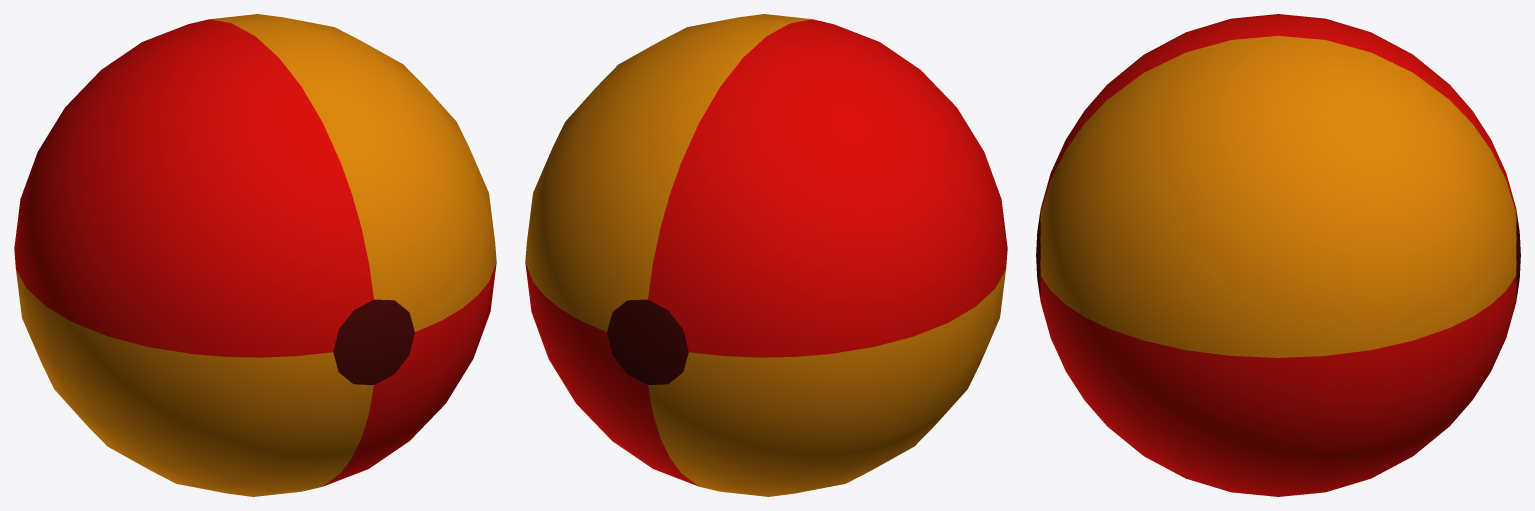
Rendered from Fbx_Bouncer.fbx.
3 views of the same model, side by side, from view 1: azimuth 30°, elevation 25°; view 2: azimuth 150°, elevation 25°; view 3: azimuth 270°, elevation 25° (orthographic).
Parts seen in each view (by area): view 1: Sphere; view 2: Sphere; view 3: Sphere.
Part boxes in pixels (left/top/right/bottom): Sphere: left=14, top=14, right=496, bottom=496; Sphere: left=525, top=14, right=1007, bottom=496; Sphere: left=1036, top=14, right=1520, bottom=496.
Bounding box in the file's own units: 0.4902 × 0.4902 × 0.4902.
